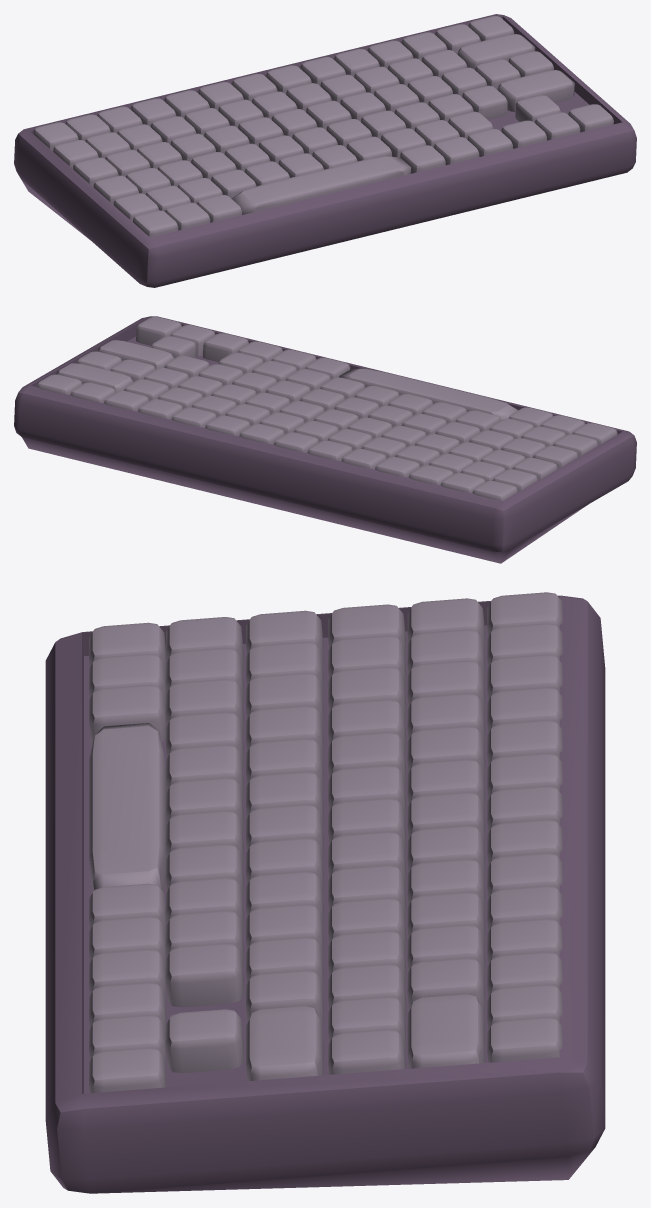
The model's file is keyboard new material.fbx.
3 renders of one model, top to bottom at view 1: azimuth 30°, elevation 25°; view 2: azimuth 150°, elevation 25°; view 3: azimuth 270°, elevation 25°, orthographic. The views are drawn at different scales.
Parts seen in each view (by area): view 1: pCube11; view 2: pCube11; view 3: pCube11.
Part boxes in pixels (<box>): pCube11: <box>14,14,636,287</box>; pCube11: <box>14,316,636,563</box>; pCube11: <box>45,592,605,1193</box>.
Size of the model in its own units: 0.8107 by 0.1129 by 0.3964.
